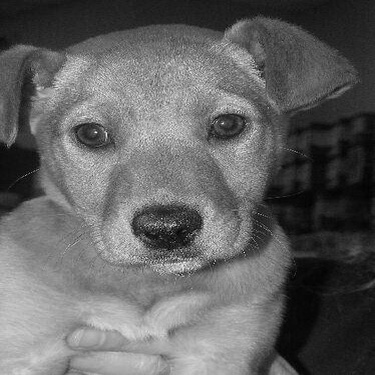dog: (1, 11, 365, 372)
